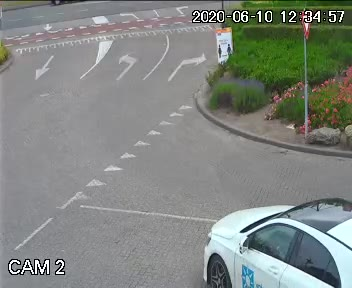car: (193, 185, 352, 288)
